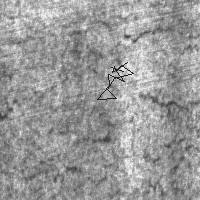crazing: (17, 120, 129, 191), (54, 18, 199, 64), (137, 90, 198, 198), (97, 62, 133, 99)
